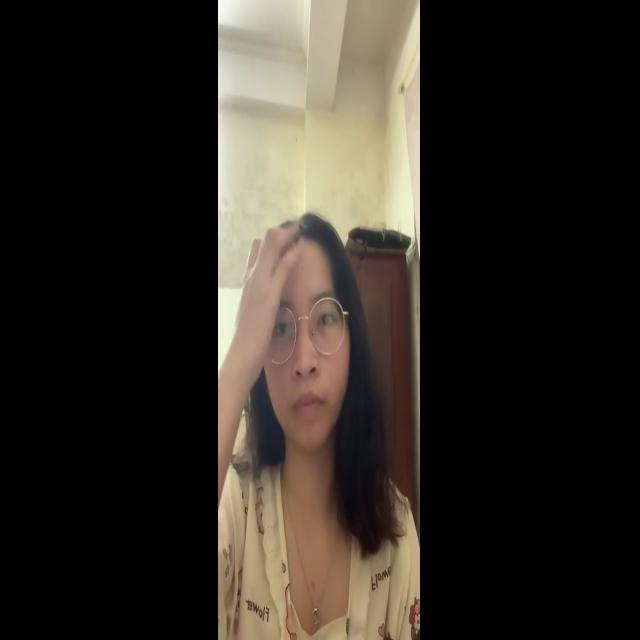student: (234, 193, 356, 474)
